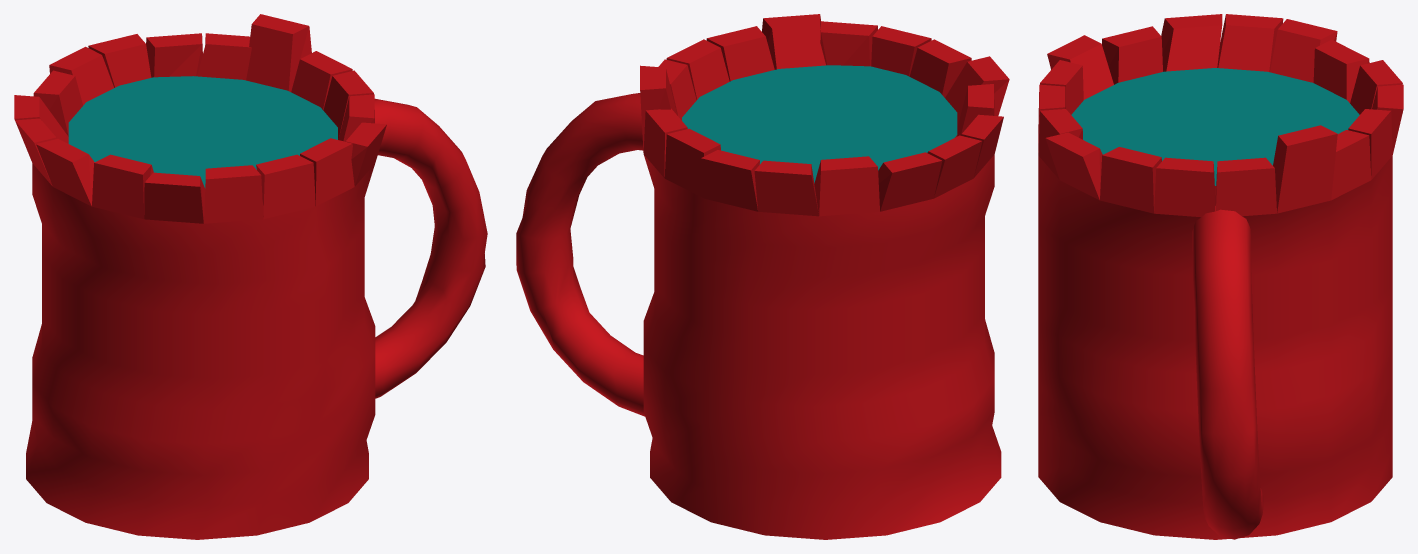
The model's file is Alcool.fbx.
3 renders of one model, left to right at view 1: azimuth 30°, elevation 25°; view 2: azimuth 150°, elevation 25°; view 3: azimuth 270°, elevation 25°, orthographic. The views are drawn at different scales.
Visible parts, largest first — view 1: Torus001; view 2: Torus001; view 3: Torus001.
Boxes of the visible parts, box(x1,y1,x2,y2) form: Torus001: box(14, 14, 487, 539); Torus001: box(516, 14, 1009, 539); Torus001: box(1038, 14, 1403, 539).
Bounding box in the file's own units: 13.21 × 10.65 × 9.
